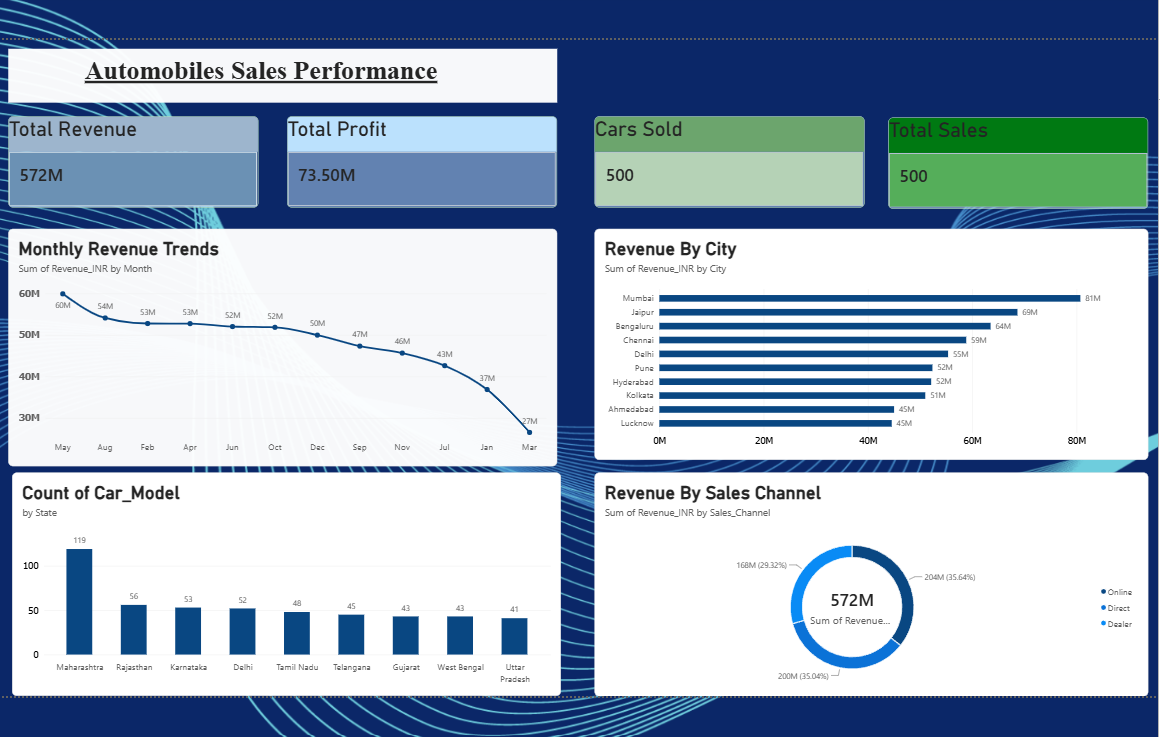

This screenshot's page, from the dashboard's own definition file:
{"tool":"powerbi","page":{"name":"Page 1","canvas":[1920,1080],"ordinal":0},"visuals":[{"type":"cardVisual","title":"Total Revenue","fields":{"Data":["Sum(car_sales_dashboard_500_rows.Revenue_INR)"]},"box":[26.8,125.6,411.7,150.3],"z":0},{"type":"cardVisual","title":"Total Profit","fields":{"Data":["Sum(car_sales_dashboard_500_rows.Profit_INR)"]},"box":[485.8,125.6,444.6,150.3],"z":1},{"type":"cardVisual","title":"Cars Sold","fields":{"Data":["Sum(car_sales_dashboard_500_rows.Units_Sold)"]},"box":[992.1,125.6,444.6,150.3],"z":2},{"type":"cardVisual","title":"Total Sales ","fields":{"Data":["CountNonNull(car_sales_dashboard_500_rows.Sale_ID)"]},"box":[1475.8,127.6,428.1,150.3],"z":3},{"type":"lineChart","title":"Monthly Revenue Trends","fields":{"Category":["car_sales_dashboard_500_rows.Month"],"Y":["Sum(car_sales_dashboard_500_rows.Revenue_INR)"]},"box":[26.8,310.8,903.6,391.1],"z":4},{"type":"clusteredBarChart","title":"Revenue By City","fields":{"Category":["car_sales_dashboard_500_rows.City"],"Y":["Sum(car_sales_dashboard_500_rows.Revenue_INR)"]},"box":[992.1,310.8,911.8,380.8],"z":5},{"type":"columnChart","fields":{"Category":["car_sales_dashboard_500_rows.State"],"Y":["CountNonNull(car_sales_dashboard_500_rows.Car_Model)"]},"box":[32.9,712.2,904,368],"z":6},{"type":"donutChart","title":"Revenue By Sales Channel","fields":{"Category":["car_sales_dashboard_500_rows.Sales_Channel"],"Y":["Sum(car_sales_dashboard_500_rows.Revenue_INR)"]},"box":[992.1,712.2,911.8,368.4],"z":7},{"type":"textbox","box":[26.8,14.4,903.6,88.5],"z":8}]}

Visuals, with their boxes in screenshot pixels (x1, y1, x2, y2):
"Total Revenue" cardVisual: region(0, 108, 250, 201)
"Total Profit" cardVisual: region(279, 108, 554, 201)
"Cars Sold" cardVisual: region(592, 108, 866, 201)
"Total Sales " cardVisual: region(890, 109, 1155, 202)
"Monthly Revenue Trends" lineChart: region(0, 222, 554, 464)
"Revenue By City" clusteredBarChart: region(592, 222, 1155, 457)
columnChart - car_sales_dashboard_500_rows.State x CountNonNull(car_sales_dashboard_500_rows.Car_Model): region(0, 470, 558, 697)
"Revenue By Sales Channel" donutChart: region(592, 470, 1155, 698)
textbox: region(0, 39, 554, 94)
